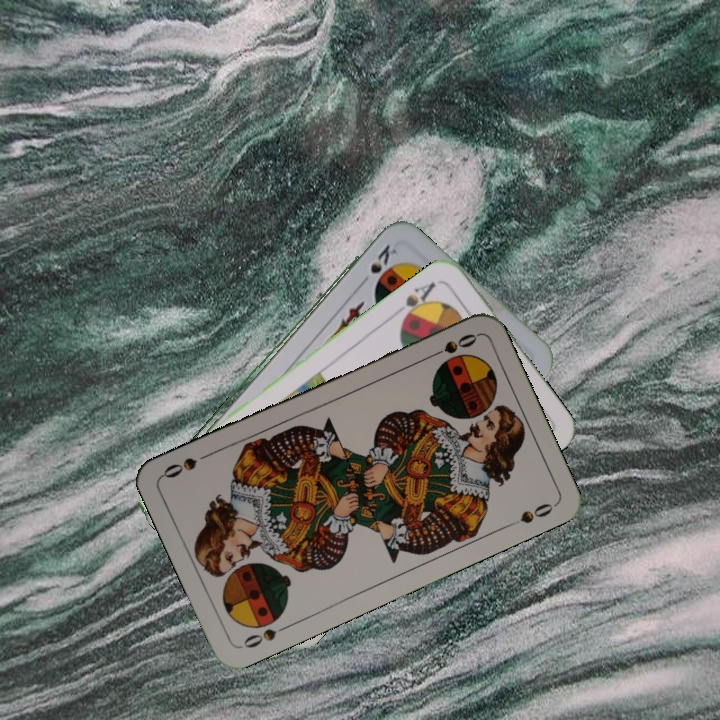SA: (391, 277, 439, 325)
SK: (366, 240, 399, 277)
SO: (424, 329, 480, 361), (237, 620, 293, 651)
